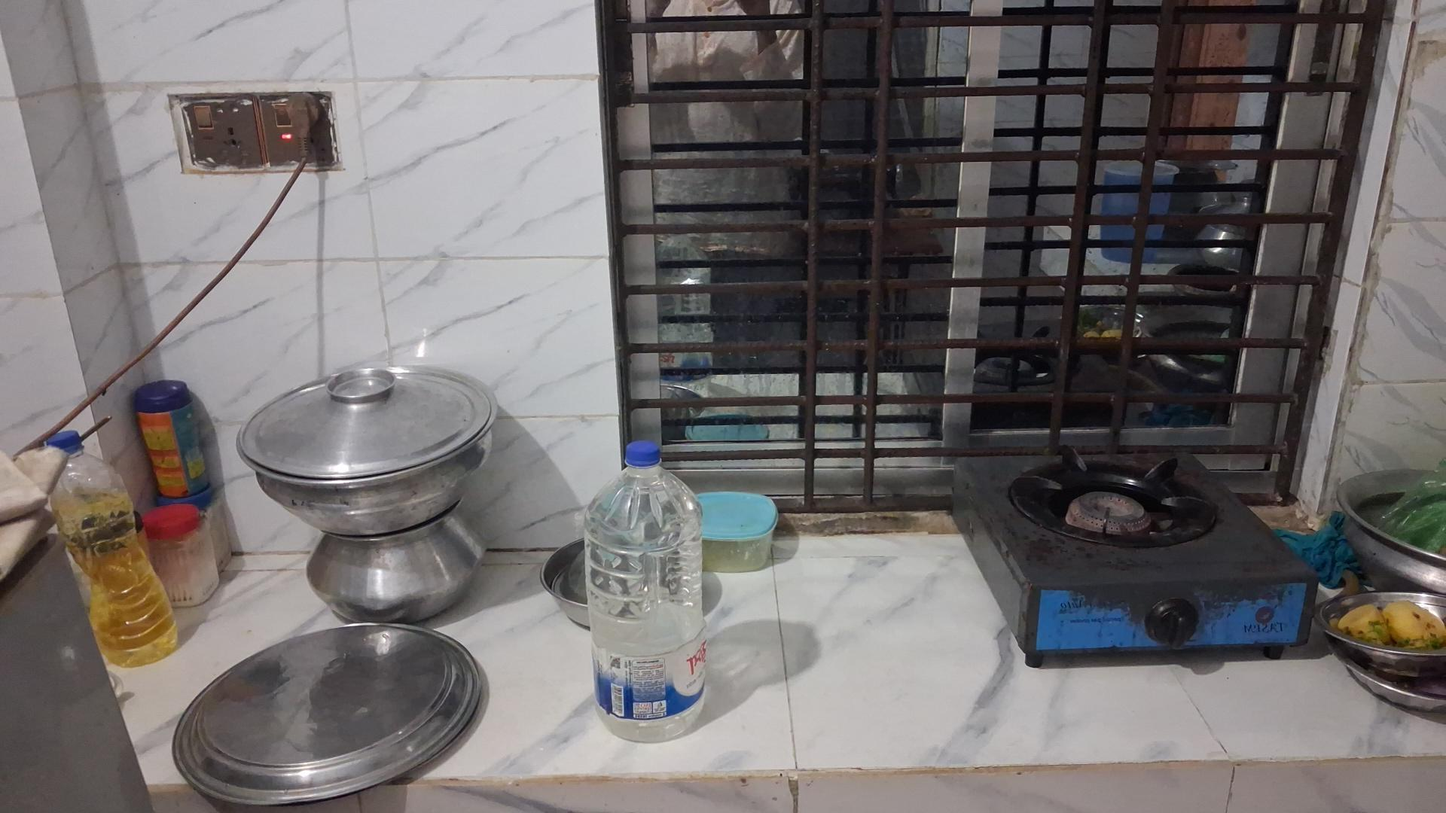Bottle: (576, 443, 717, 749), (43, 435, 176, 670)
Bowl: (1319, 579, 1446, 663)
Jar: (136, 388, 218, 492), (143, 508, 228, 603), (693, 495, 781, 571)
Plate: (173, 622, 481, 803)
Pot: (242, 370, 497, 534), (306, 515, 489, 621)
